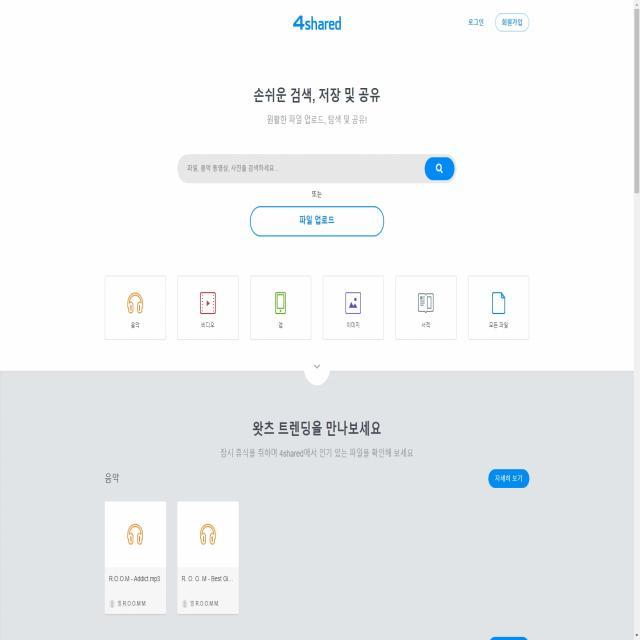menu-bar: (464, 10, 530, 33)
menu-panel: (100, 267, 533, 343)
search: (174, 148, 456, 187)
